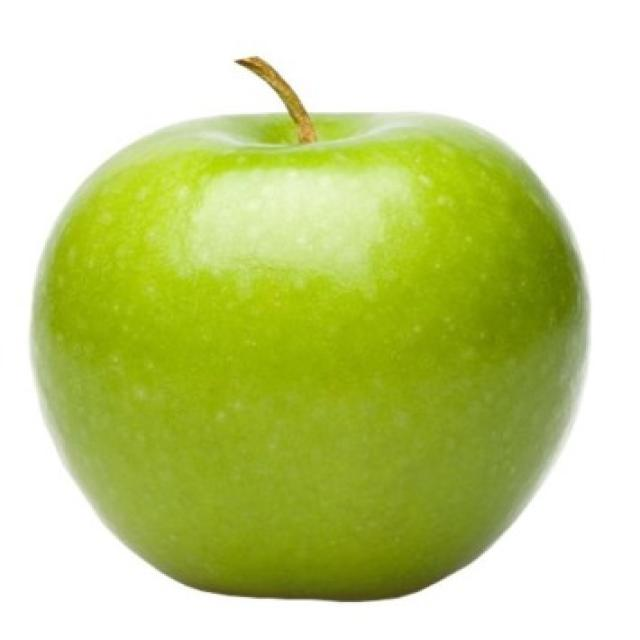yan_yemek: (27, 53, 591, 602)
